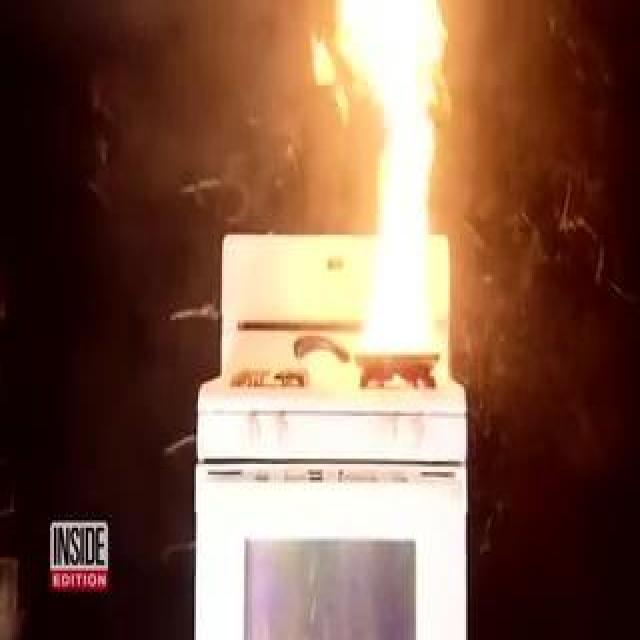Fire: (357, 2, 467, 362)
